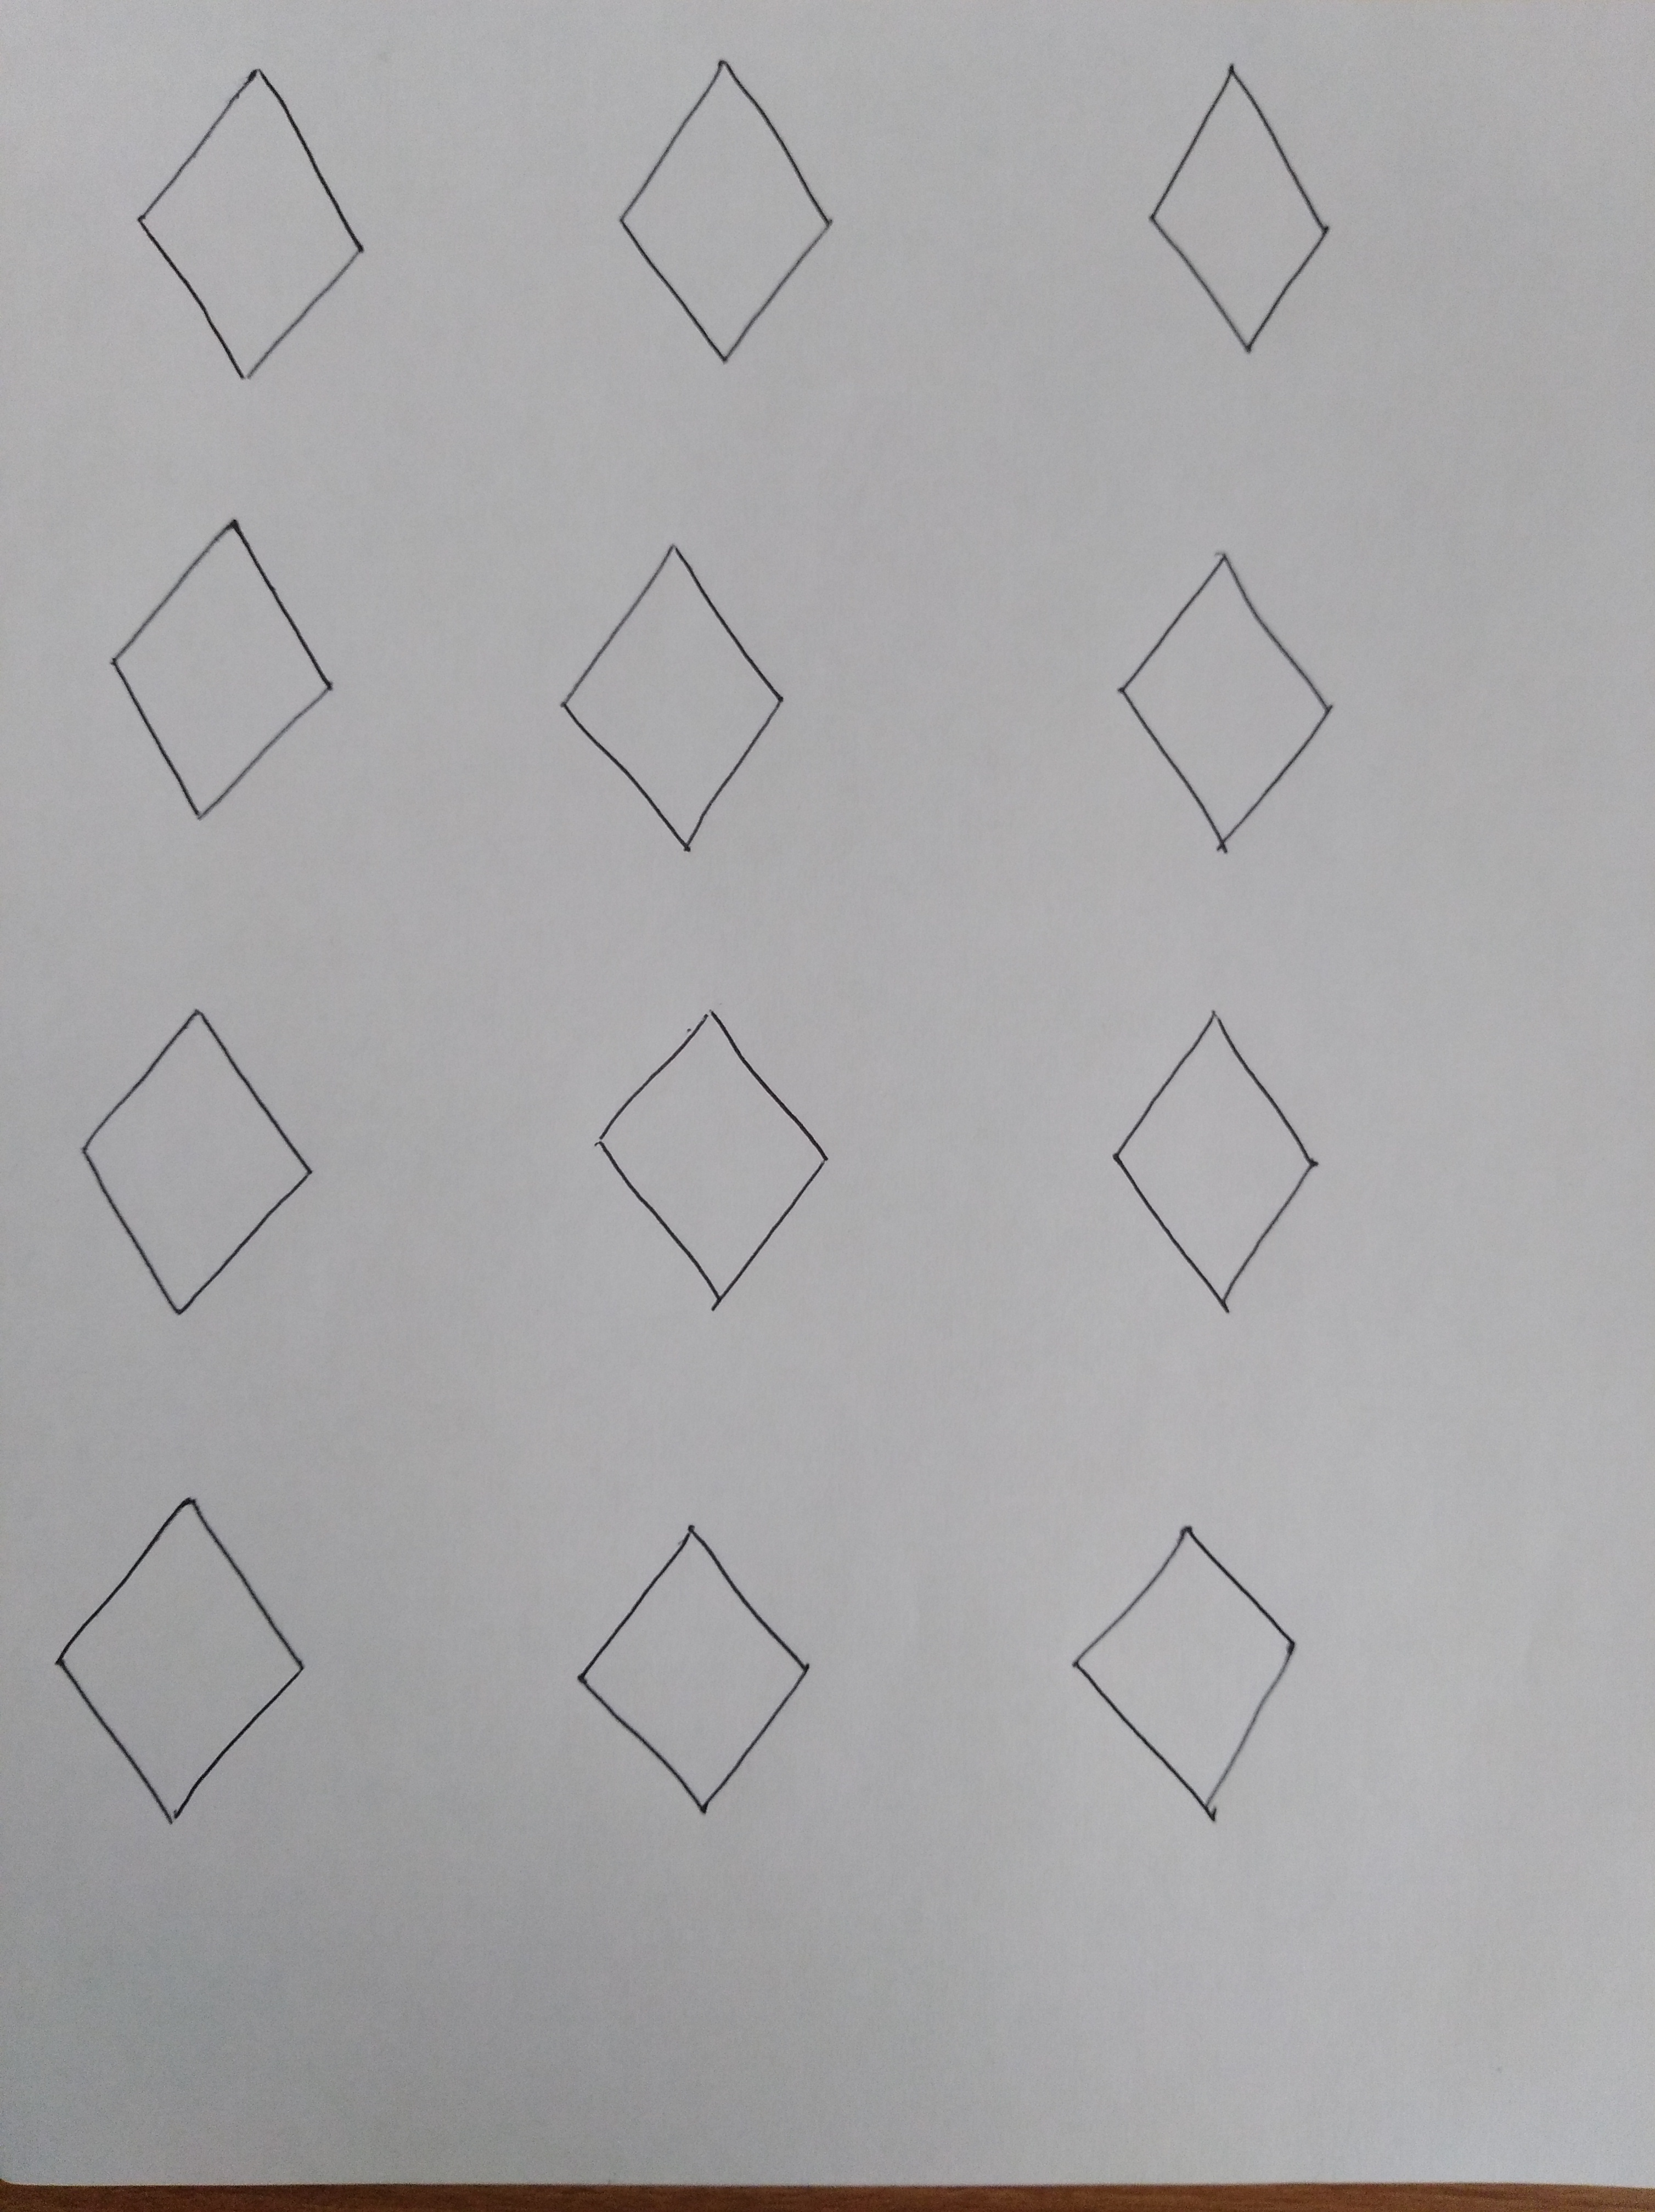decision: (527, 1472, 840, 1861), (1019, 1489, 1335, 1859), (40, 1461, 334, 1851), (89, 50, 412, 400), (1067, 982, 1372, 1340), (45, 983, 344, 1338), (66, 500, 376, 841), (565, 987, 871, 1331), (1092, 527, 1380, 884), (535, 514, 819, 876), (579, 42, 869, 384), (1116, 40, 1359, 384)
